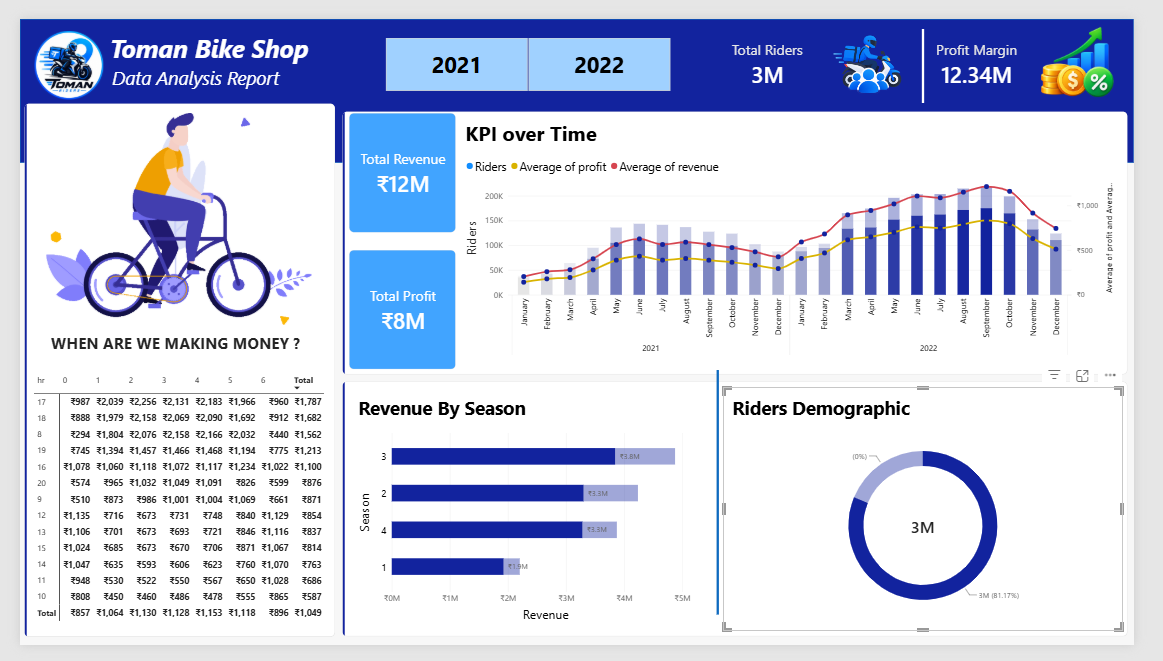

This screenshot's page, from the dashboard's own definition file:
{"tool":"powerbi","page":{"name":"Page 1","canvas":[1920,1080],"ordinal":0},"visuals":[{"type":"shape","box":[0,0,1920.4,247.7],"z":0},{"type":"cardVisual","fields":{"Data":["Min(Query.rider_type)"]},"box":[6.6,145,537.7,921.1],"z":1000},{"type":"cardVisual","fields":{"Data":["Min(Query.rider_type)"]},"box":[554.8,624.6,1356,441.5],"z":2000},{"type":"image","box":[14.5,162.1,520.5,365],"z":3000},{"type":"pivotTable","fields":{"Columns":["Query.weekday"],"Rows":["Query.hr"],"Values":["Avg(Query.revenue)"]},"box":[9.2,595.6,532.4,459.9],"z":4000},{"type":"textbox","box":[52.7,540.3,445.4,49.9],"z":5000},{"type":"cardVisual","fields":{"Data":["Min(Query.rider_type)"]},"box":[554.8,159.5,1356,456],"z":6000},{"type":"lineClusteredColumnComboChart","title":"KPI over Time","fields":{"Category":["Query.dteday.Variation.Date Hierarchy.Year","Query.dteday.Variation.Date Hierarchy.Month","Query.dteday.Variation.Date Hierarchy.Day"],"Y":["Sum(Query.riders)"],"Y2":["Avg(Query.profit)","Avg(Query.revenue)"]},"box":[752.5,159.5,1149.1,442.8],"z":7000},{"type":"barChart","title":"Revenue By Season","fields":{"Category":["Query.season"],"Y":["Sum(Query.revenue)"]},"box":[568,635.2,635.2,421.7],"z":8000},{"type":"donutChart","title":"Riders Demographic","fields":{"Category":["Query.rider_type"],"Y":["Sum(Query.riders)"]},"box":[1212.4,633.9,689.2,421.7],"z":9000},{"type":"shape","box":[1052,636,299.1,421.7],"z":10000},{"type":"cardVisual","title":"KPI over Time","fields":{"Data":["Sum(Query.revenue)","Sum(Query.profit)"]},"box":[568,166,184.5,442.8],"z":11000},{"type":"cardVisual","fields":{"Data":["Sum(Query.riders)","Query.Profit Margin"]},"box":[1201.7,12.1,708.6,132.8],"z":11001},{"type":"shape","box":[1406.9,17.2,300,127.6],"z":11002},{"type":"image","box":[13.8,20.7,141.4,119],"z":11003},{"type":"textbox","box":[155.2,20.7,358.6,63.8],"z":11004},{"type":"textbox","box":[158.6,79.3,355.2,58.6],"z":11005},{"type":"slicer","fields":{"Values":["Query.Year"]},"box":[612.1,32.8,527.6,91.4],"z":11006}]}

Visuals, with their boxes in screenshot pixels (x1, y1, x2, y2), scaled from the page's 1920x1080 canvas onto the 1163x661 screenshot:
shape: box=[0, 0, 1162, 152]
cardVisual - Min(Query.rider_type): box=[4, 89, 330, 652]
cardVisual - Min(Query.rider_type): box=[336, 382, 1157, 652]
image: box=[9, 99, 324, 323]
pivotTable - Query.weekday x Query.hr: box=[6, 365, 328, 646]
textbox: box=[32, 331, 302, 361]
cardVisual - Min(Query.rider_type): box=[336, 98, 1157, 377]
"KPI over Time" lineClusteredColumnComboChart: box=[456, 98, 1152, 369]
"Revenue By Season" barChart: box=[344, 389, 729, 647]
"Riders Demographic" donutChart: box=[734, 388, 1152, 646]
shape: box=[637, 389, 818, 647]
"KPI over Time" cardVisual: box=[344, 102, 456, 373]
cardVisual - Sum(Query.riders) x Query.Profit Margin: box=[728, 7, 1157, 89]
shape: box=[852, 11, 1034, 89]
image: box=[8, 13, 94, 86]
textbox: box=[94, 13, 311, 52]
textbox: box=[96, 49, 311, 84]
slicer - Query.Year: box=[371, 20, 690, 76]
